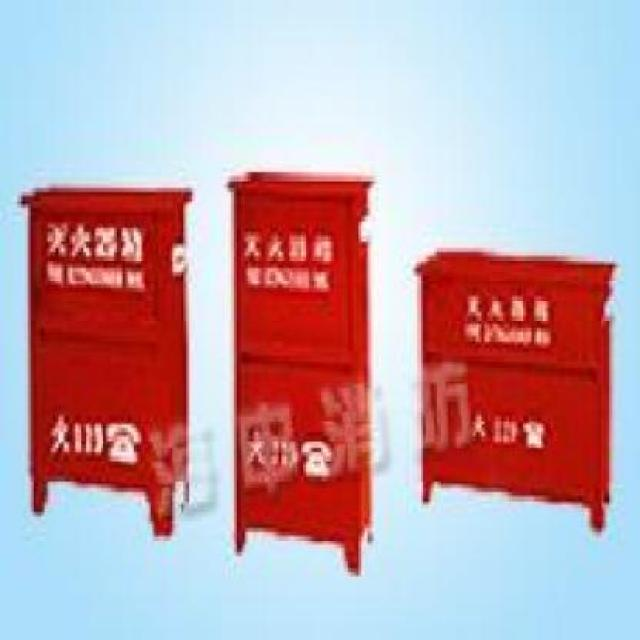firehydrant: (15, 177, 197, 544), (220, 162, 376, 579), (411, 243, 622, 540)
